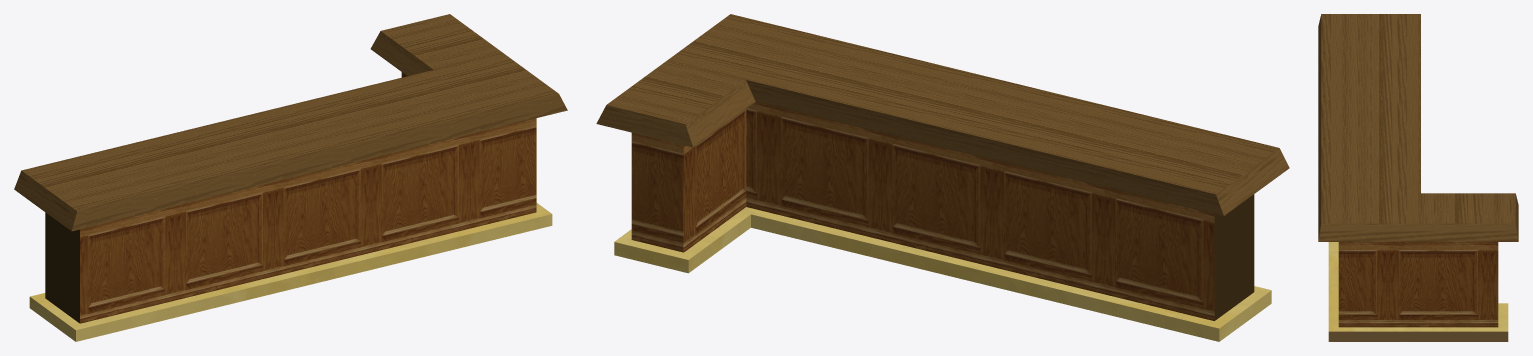
File: PR_Bar_T.fbx
3 views of the same model, side by side, from view 1: azimuth 30°, elevation 25°; view 2: azimuth 150°, elevation 25°; view 3: azimuth 270°, elevation 25° (orthographic). The views are drawn at different scales.
Visible parts, largest first — view 1: PR_Bar:PR_Bar; view 2: PR_Bar:PR_Bar; view 3: PR_Bar:PR_Bar.
Part boxes in pixels (box(x1,y1,x2,y2)): PR_Bar:PR_Bar: box(14, 14, 567, 341); PR_Bar:PR_Bar: box(596, 14, 1289, 341); PR_Bar:PR_Bar: box(1318, 14, 1518, 341).
Bounding box in the file's own units: 22.33 × 5.77 × 8.75.
